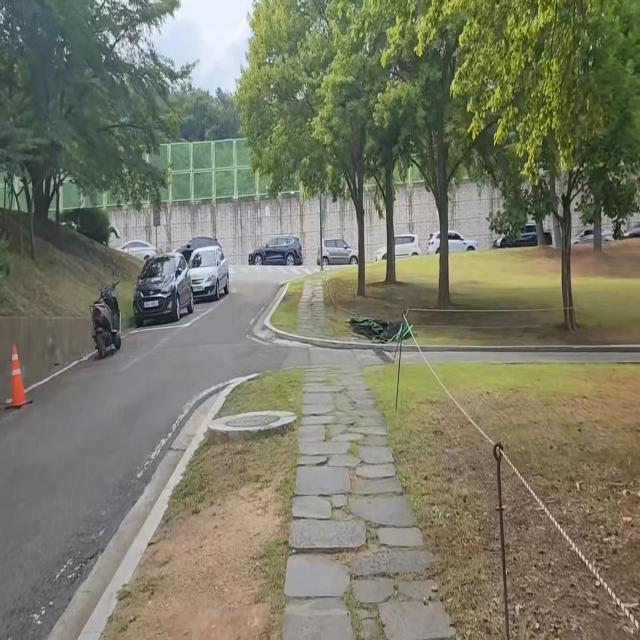obstacle: (128, 237, 245, 361), (85, 259, 129, 373), (4, 335, 32, 421)
road: (0, 267, 292, 640)
sidewalk: (283, 367, 463, 640), (297, 268, 334, 342)
